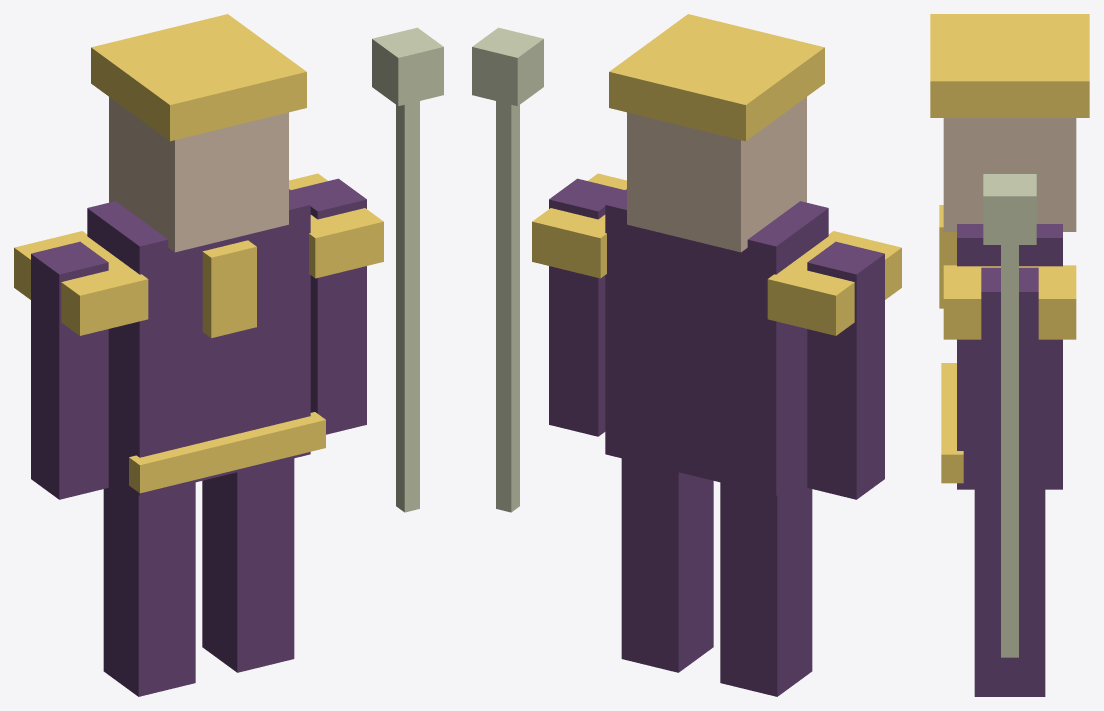
The model's file is 05_vexa_voxmere_diver_of_skyway.glb.
The picture shows the model from 3 angles, left to right: view 1: azimuth 30°, elevation 25°; view 2: azimuth 150°, elevation 25°; view 3: azimuth 270°, elevation 25°; orthographic projection.
Parts seen in each view (by area): view 1: Vexa Voxmere, Diver of Skyway; view 2: Vexa Voxmere, Diver of Skyway; view 3: Vexa Voxmere, Diver of Skyway.
Boxes of the visible parts, x1=… form: Vexa Voxmere, Diver of Skyway: x1=14, y1=14, x2=443, y2=696; Vexa Voxmere, Diver of Skyway: x1=472, y1=14, x2=901, y2=696; Vexa Voxmere, Diver of Skyway: x1=930, y1=14, x2=1089, y2=696.
Bounding box in the file's own units: 0.9899 × 1.49 × 0.3511.
